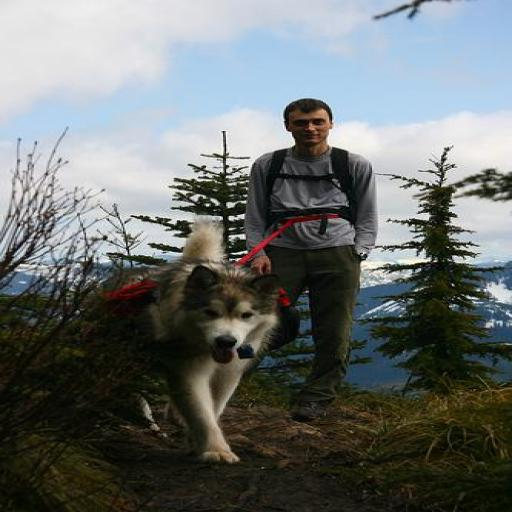dog_face: (176, 272, 298, 366)
